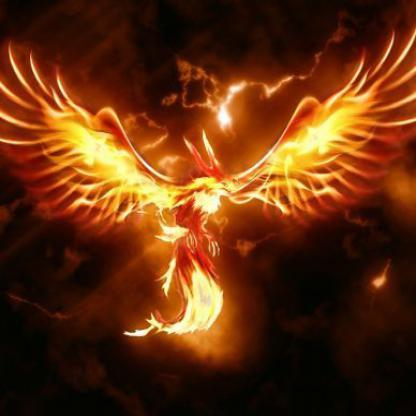Moltres: (1, 54, 416, 381)
